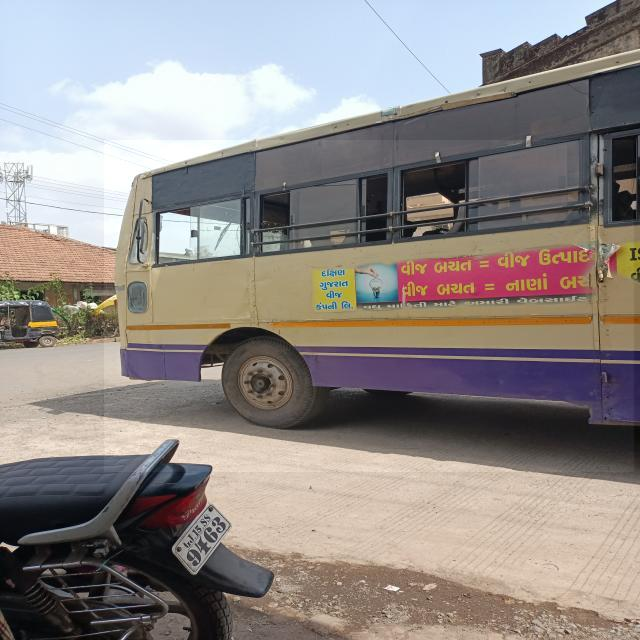Bus: (104, 140, 634, 472)
